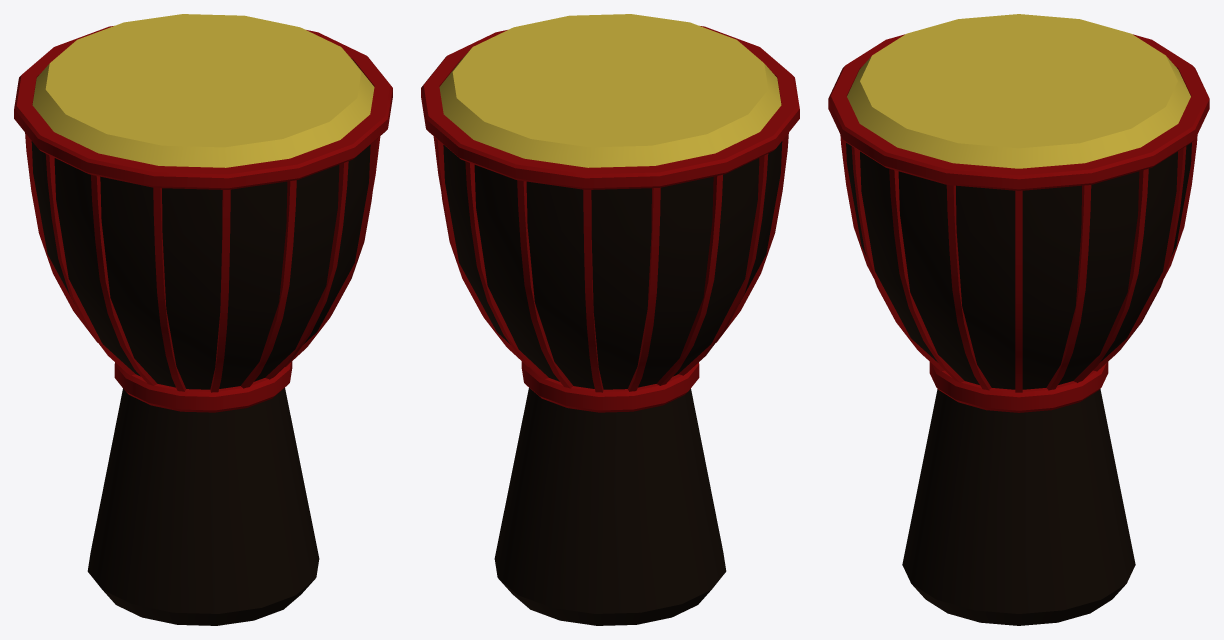
File: Djembe.FBX
3 renders of one model, left to right at view 1: azimuth 30°, elevation 25°; view 2: azimuth 150°, elevation 25°; view 3: azimuth 270°, elevation 25°, orthographic.
Parts seen in each view (by area): view 1: Djembe; view 2: Djembe; view 3: Djembe.
Part boxes in pixels (x1,y1,x2,y2): Djembe: (14,14,392,625); Djembe: (421,14,799,625); Djembe: (828,14,1209,625).
Size of the model in its own units: 710 by 710 by 1032.
